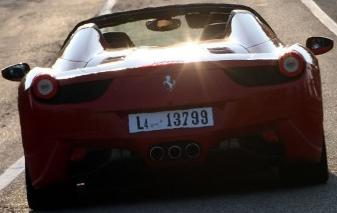back_view: (22, 53, 319, 193)
backlight: (18, 69, 72, 106)
